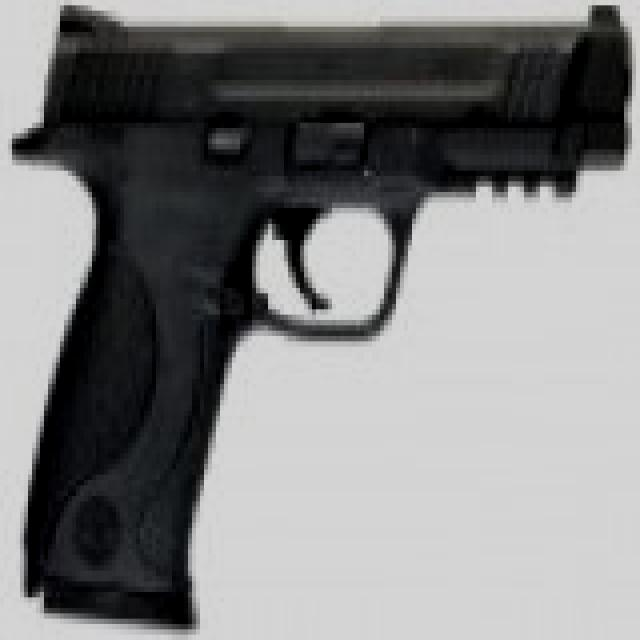pistol: (28, 0, 624, 629)
